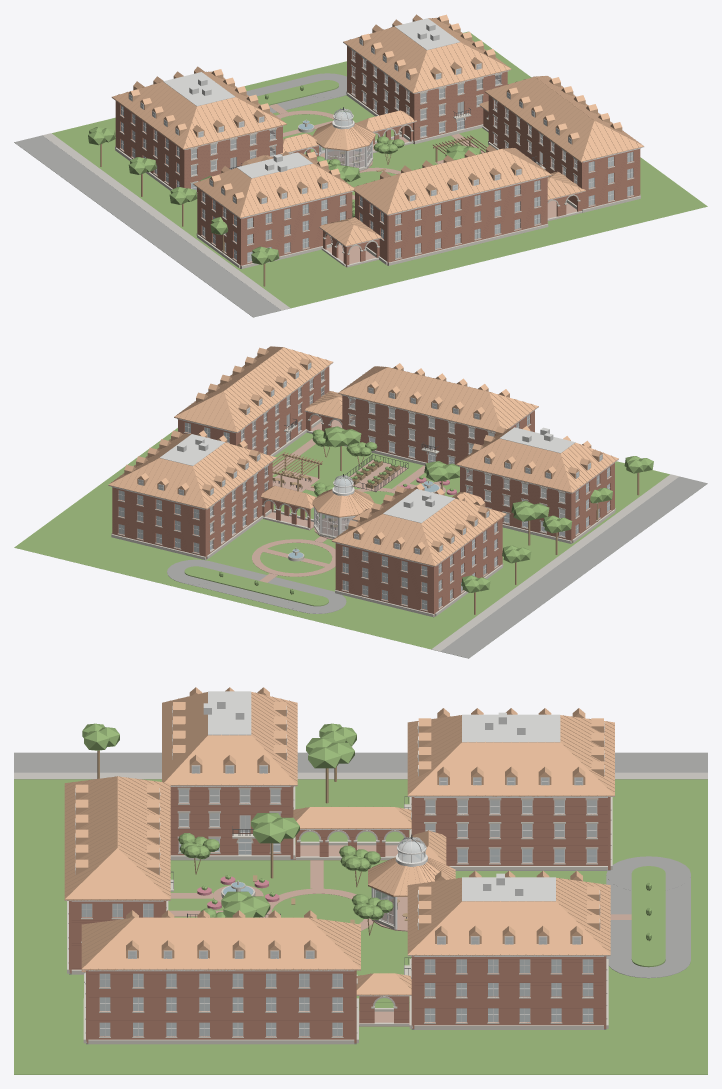
Rendered from clay-garden-court-senior-residence-clay-v002.glb.
The picture shows the model from 3 angles, top to bottom: view 1: azimuth 30°, elevation 25°; view 2: azimuth 150°, elevation 25°; view 3: azimuth 270°, elevation 25°; orthographic projection. The views are drawn at different scales.
Visible parts, largest first — view 1: CLAY_ROOF, CLAY_WALL, CLAY_LAWN, CLAY_TRIM, CLAY_FOUNDATION, CLAY_GLASS, CLAY_STONE, CLAY_MEMBRANE, CLAY_PLANTING, CLAY_CONCRETE, CLAY_SAND, CLAY_FLOOR (+1 smaller); view 2: CLAY_ROOF, CLAY_LAWN, CLAY_WALL, CLAY_FOUNDATION, CLAY_TRIM, CLAY_GLASS, CLAY_STONE, CLAY_PLANTING, CLAY_SAND, CLAY_MEMBRANE, CLAY_CONCRETE, CLAY_TIMBER (+2 smaller); view 3: CLAY_LAWN, CLAY_ROOF, CLAY_WALL, CLAY_FOUNDATION, CLAY_TRIM, CLAY_GLASS, CLAY_STONE, CLAY_PLANTING, CLAY_MEMBRANE, CLAY_JOINT, CLAY_SAND, CLAY_CONCRETE (+2 smaller).
Boxes of the visible parts, box(x1,y1,x2,y2) form: CLAY_ROOF: box(112, 14, 643, 246); CLAY_WALL: box(115, 46, 640, 267); CLAY_LAWN: box(52, 31, 707, 308); CLAY_TRIM: box(115, 38, 643, 261); CLAY_FOUNDATION: box(14, 73, 508, 317); CLAY_GLASS: box(121, 39, 633, 261); CLAY_STONE: box(115, 49, 640, 268); CLAY_MEMBRANE: box(163, 18, 459, 178); CLAY_PLANTING: box(88, 85, 480, 264); CLAY_CONCRETE: box(42, 133, 290, 310); CLAY_SAND: box(269, 104, 576, 267); CLAY_FLOOR: box(191, 58, 577, 182); CLAY_ROOF: box(108, 346, 618, 566); CLAY_LAWN: box(14, 428, 669, 649); CLAY_WALL: box(112, 366, 614, 615); CLAY_FOUNDATION: box(167, 422, 707, 658); CLAY_TRIM: box(108, 362, 618, 609); CLAY_GLASS: box(118, 363, 609, 609); CLAY_STONE: box(111, 369, 615, 616); CLAY_PLANTING: box(219, 426, 653, 594); CLAY_SAND: box(252, 420, 448, 582); CLAY_MEMBRANE: box(160, 427, 575, 523); CLAY_CONCRETE: box(431, 474, 679, 651); CLAY_TIMBER: box(256, 446, 639, 614); CLAY_LAWN: box(14, 779, 707, 1074); CLAY_ROOF: box(64, 687, 614, 995); CLAY_WALL: box(69, 786, 610, 1043); CLAY_FOUNDATION: box(14, 752, 707, 1044); CLAY_TRIM: box(65, 706, 614, 1036); CLAY_GLASS: box(81, 767, 600, 1036); CLAY_STONE: box(67, 786, 612, 1044); CLAY_PLANTING: box(82, 723, 651, 940); CLAY_MEMBRANE: box(203, 691, 560, 901); CLAY_JOINT: box(72, 791, 607, 1020); CLAY_SAND: box(169, 845, 631, 1026); CLAY_CONCRETE: box(14, 772, 707, 779).
Size of the model in its own units: 90 by 15.05 by 82.
